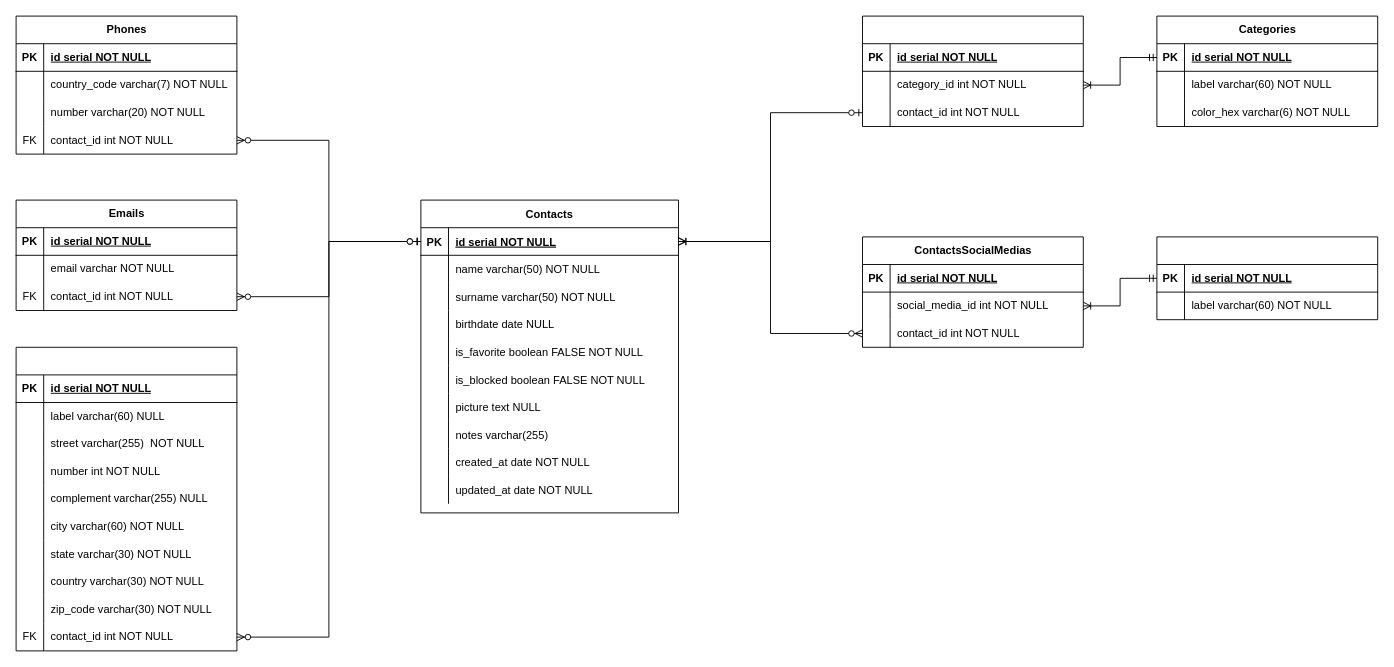
This 1394x667 diagram has some shape labels left out. Here are the shapes that lost their labels. From the top down, the box of each, then its label:
(862, 15, 1083, 126): ContactsCategories
(1156, 236, 1378, 320): SocialMedias
(15, 346, 237, 651): Addresses
